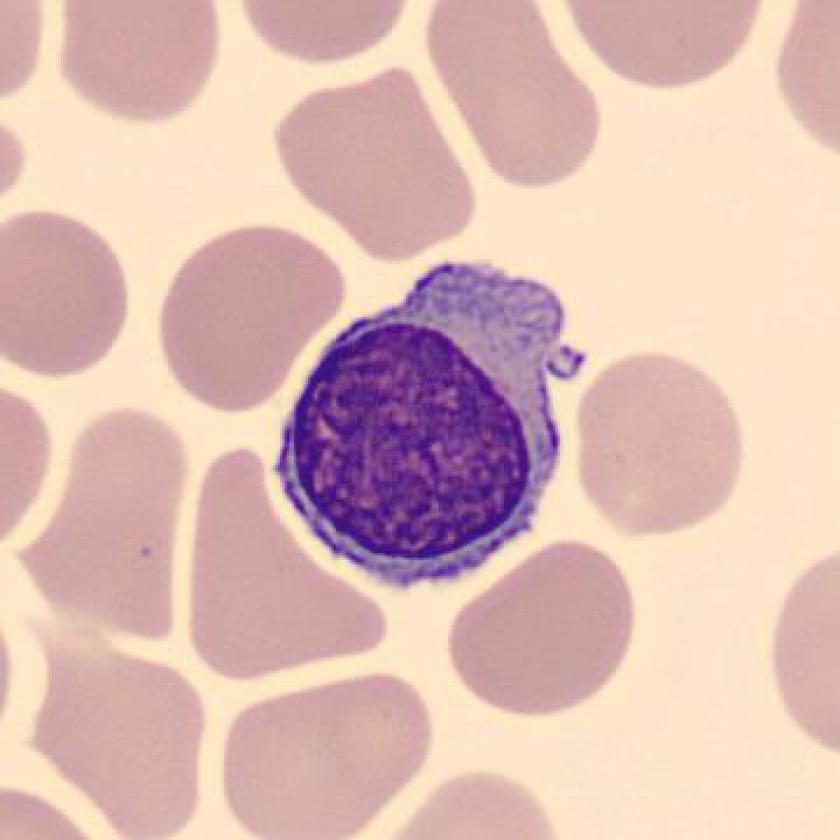lymphocyte: (265, 249, 596, 603)
